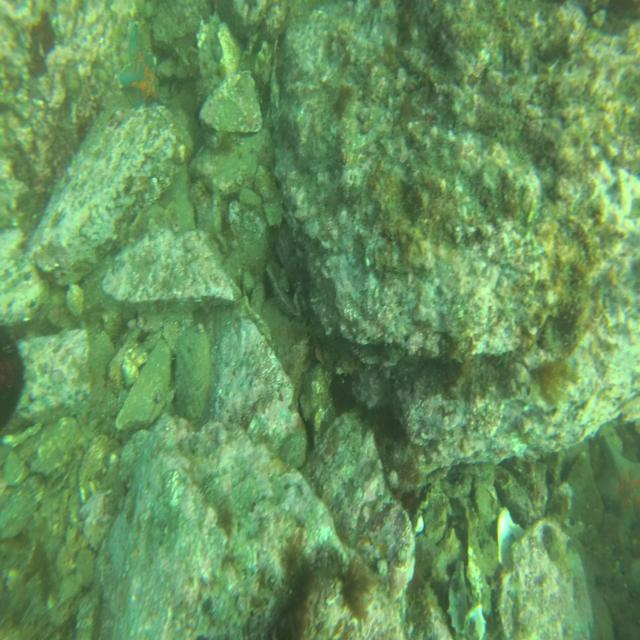starfish: (114, 24, 164, 114)
